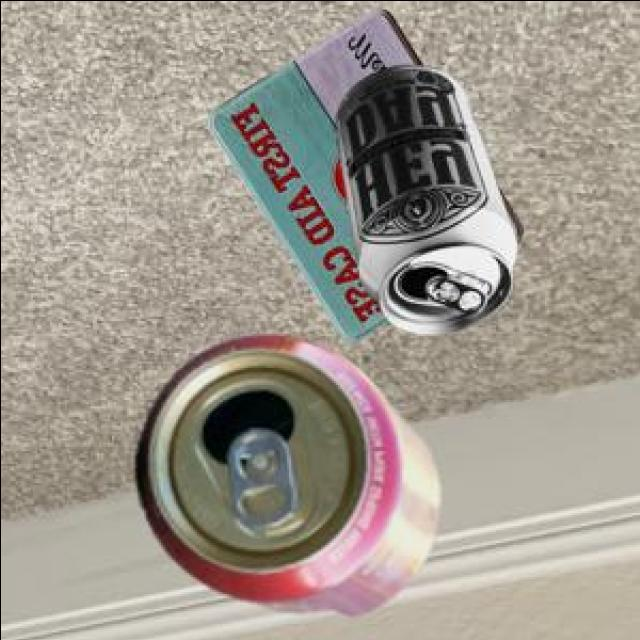logam: (204, 12, 475, 342), (131, 336, 436, 618), (332, 67, 513, 336)
